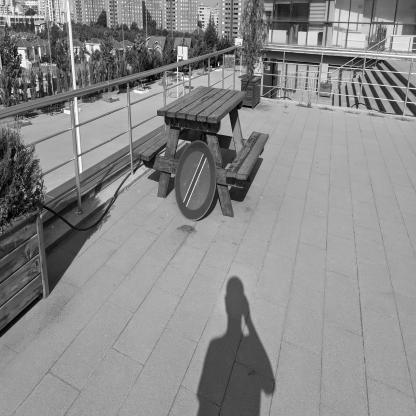No Waiting: (176, 141, 218, 221)
